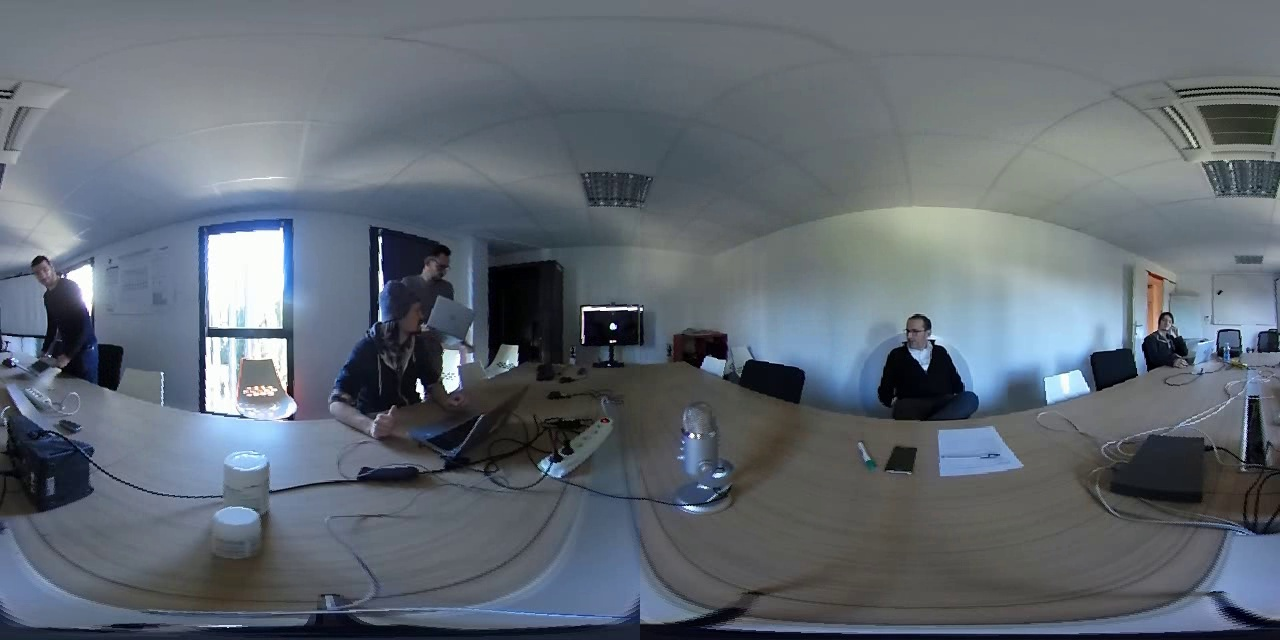person: (329, 279, 420, 444), (14, 252, 105, 370), (876, 307, 965, 419), (1143, 304, 1191, 365), (419, 243, 458, 315)
